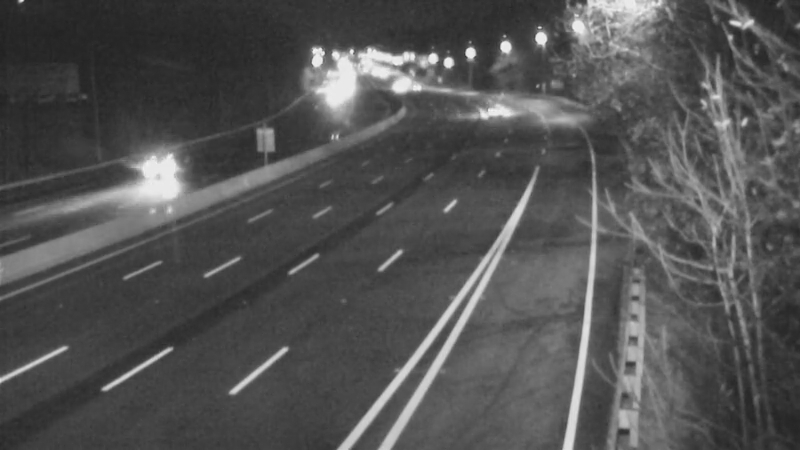vehicle: (124, 127, 204, 207), (381, 56, 431, 106), (389, 62, 439, 112), (372, 63, 422, 113), (462, 83, 512, 133)
